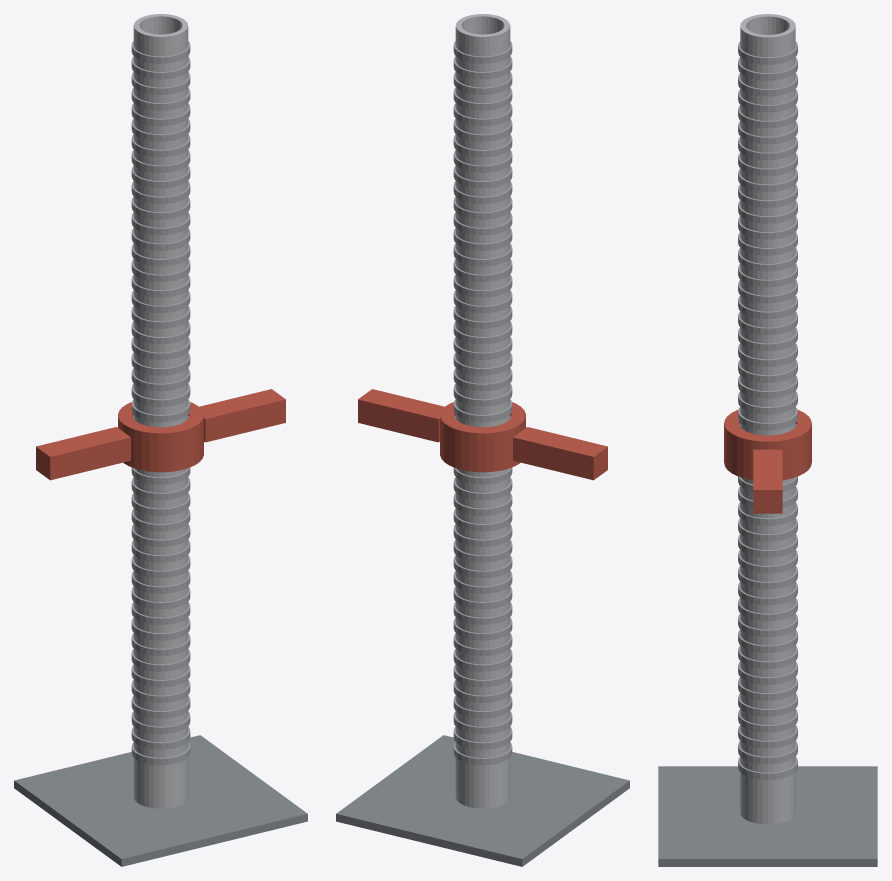
Rendered from base_jack_600.glb.
The picture shows the model from 3 angles, left to right: view 1: azimuth 30°, elevation 25°; view 2: azimuth 150°, elevation 25°; view 3: azimuth 270°, elevation 25°; orthographic projection.
Visible parts, largest first — view 1: base_jack_600; view 2: base_jack_600; view 3: base_jack_600.
Boxes of the visible parts, bbox=[...] form: base_jack_600: bbox=[14, 14, 307, 866]; base_jack_600: bbox=[336, 14, 629, 866]; base_jack_600: bbox=[658, 14, 877, 866].
Size of the model in its own units: 0.19 by 0.6 by 0.15.
